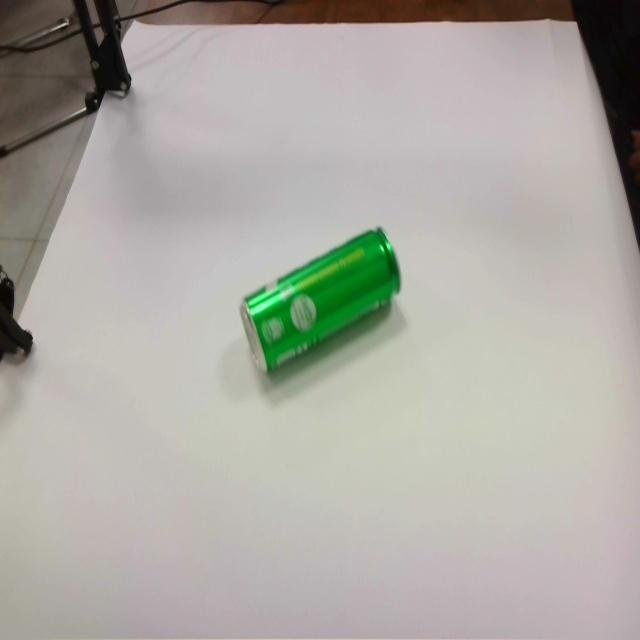debris: (242, 225, 403, 373)
